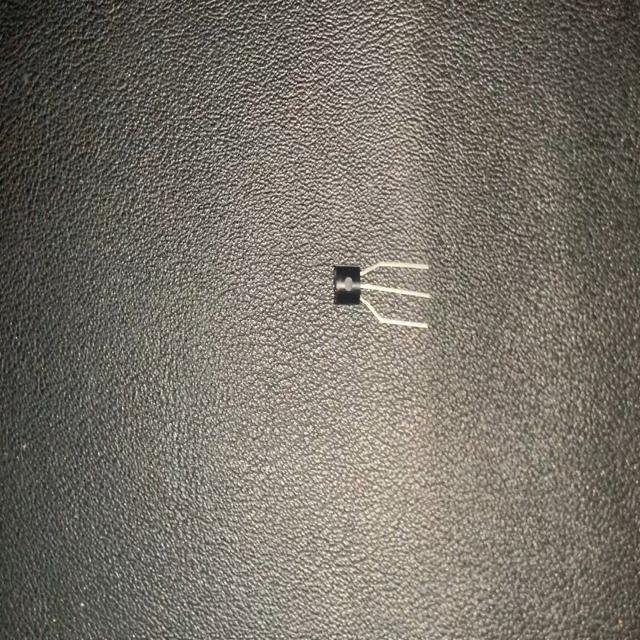BJT: (332, 256, 432, 339)
